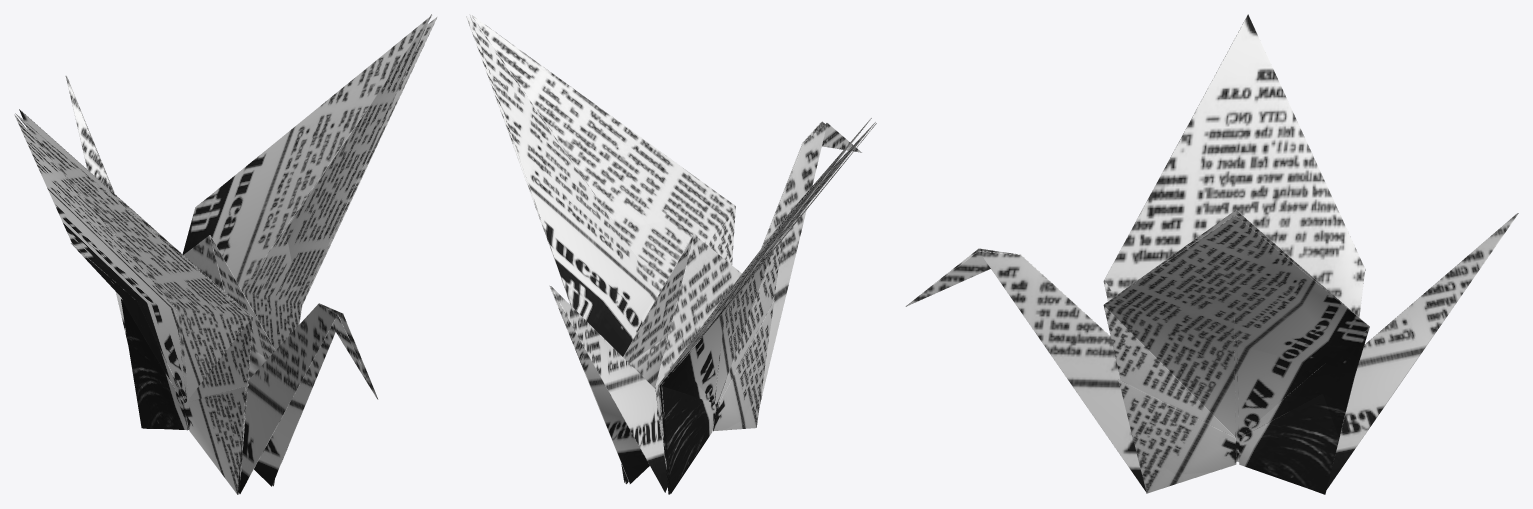
Rendered from tsuru.gltf.
3 renders of one model, left to right at view 1: azimuth 30°, elevation 25°; view 2: azimuth 150°, elevation 25°; view 3: azimuth 270°, elevation 25°, orthographic.
Visible parts, largest first — view 1: tsuru; view 2: tsuru; view 3: tsuru.
Part boxes in pixels (x1,y1,x2,y2): tsuru: [14, 14, 437, 494]; tsuru: [466, 14, 876, 494]; tsuru: [905, 14, 1518, 494].
Size of the model in its own units: 0.8892 by 0.7927 by 1.15.
1 material, 1 textured.
